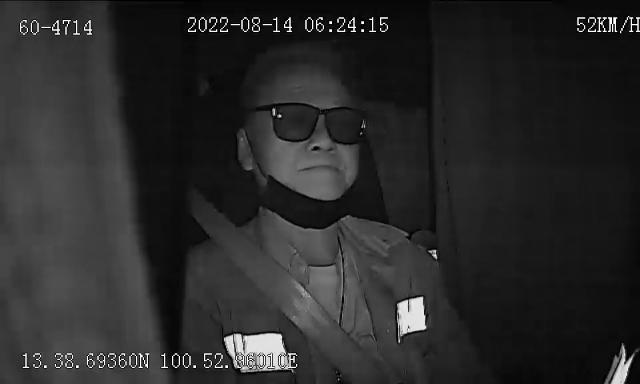Seatbelt: (195, 186, 398, 384)
